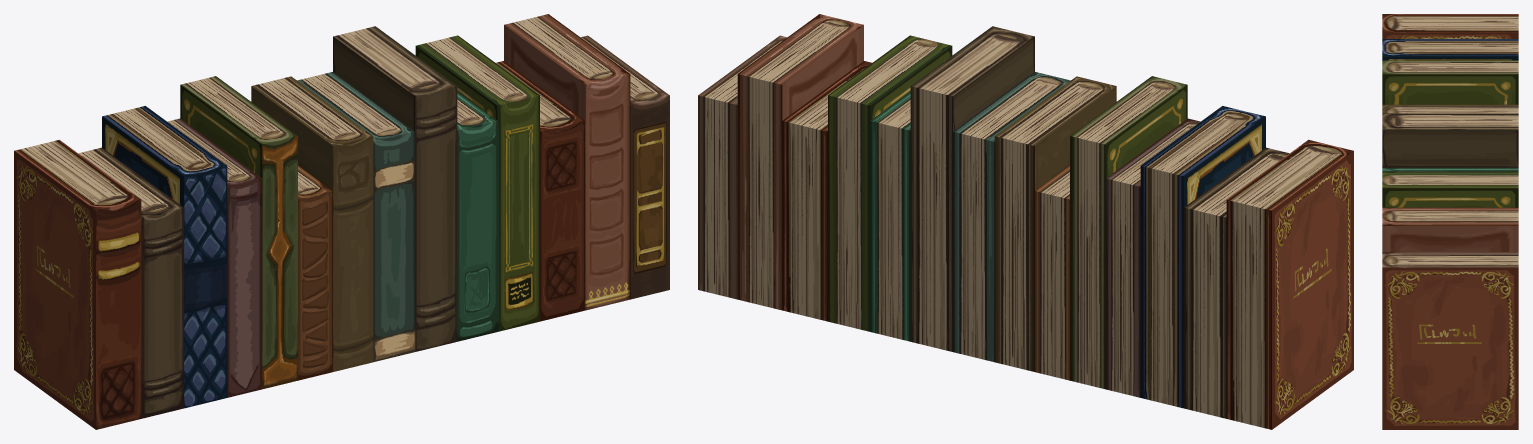
Rendered from SM_PROP_book_dungeon_08.fbx.
3 views of the same model, side by side, from view 1: azimuth 30°, elevation 25°; view 2: azimuth 150°, elevation 25°; view 3: azimuth 270°, elevation 25° (orthographic). The views are drawn at different scales.
Visible parts, largest first — view 1: SM_PROP_book_dungeon_08; view 2: SM_PROP_book_dungeon_08; view 3: SM_PROP_book_dungeon_08.
Boxes of the visible parts, x1=… form: SM_PROP_book_dungeon_08: x1=14, y1=14, x2=669, y2=429; SM_PROP_book_dungeon_08: x1=698, y1=14, x2=1353, y2=429; SM_PROP_book_dungeon_08: x1=1382, y1=14, x2=1518, y2=429.
Bounding box in the file's own units: 84.08 × 35.79 × 20.79.
